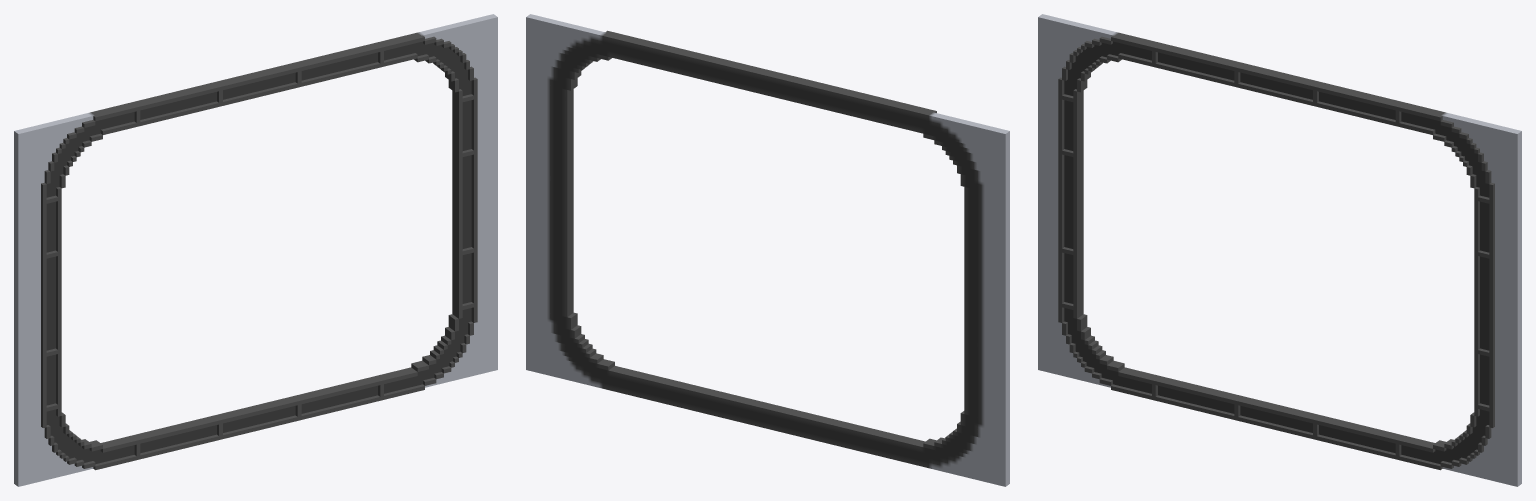
Rendered from Frame_Round.obj.
The picture shows the model from 3 angles, left to right: view 1: azimuth 30°, elevation 25°; view 2: azimuth 150°, elevation 25°; view 3: azimuth 330°, elevation 25°; orthographic projection.
Visible parts, largest first — view 1: Frame_Round; view 2: Frame_Round; view 3: Frame_Round.
Boxes of the visible parts, bbox=[...] form: Frame_Round: bbox=[14, 14, 497, 486]; Frame_Round: bbox=[526, 14, 1009, 486]; Frame_Round: bbox=[1038, 14, 1521, 486].
Size of the model in its own units: 128 by 90 by 3.
1 material, 1 textured.
